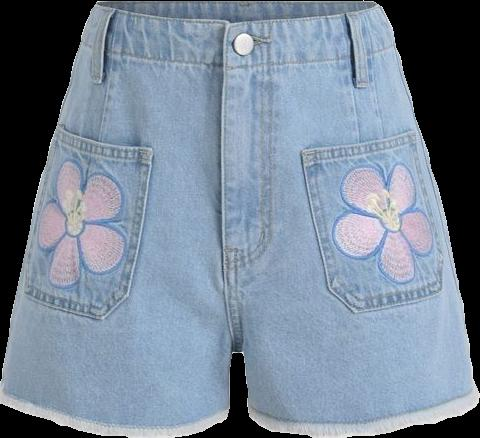Hemline: (0, 398, 229, 437), (247, 399, 479, 437)
Pantleg: (221, 1, 479, 437), (0, 0, 232, 437)
Waistline: (80, 40, 397, 69), (93, 2, 380, 25)
